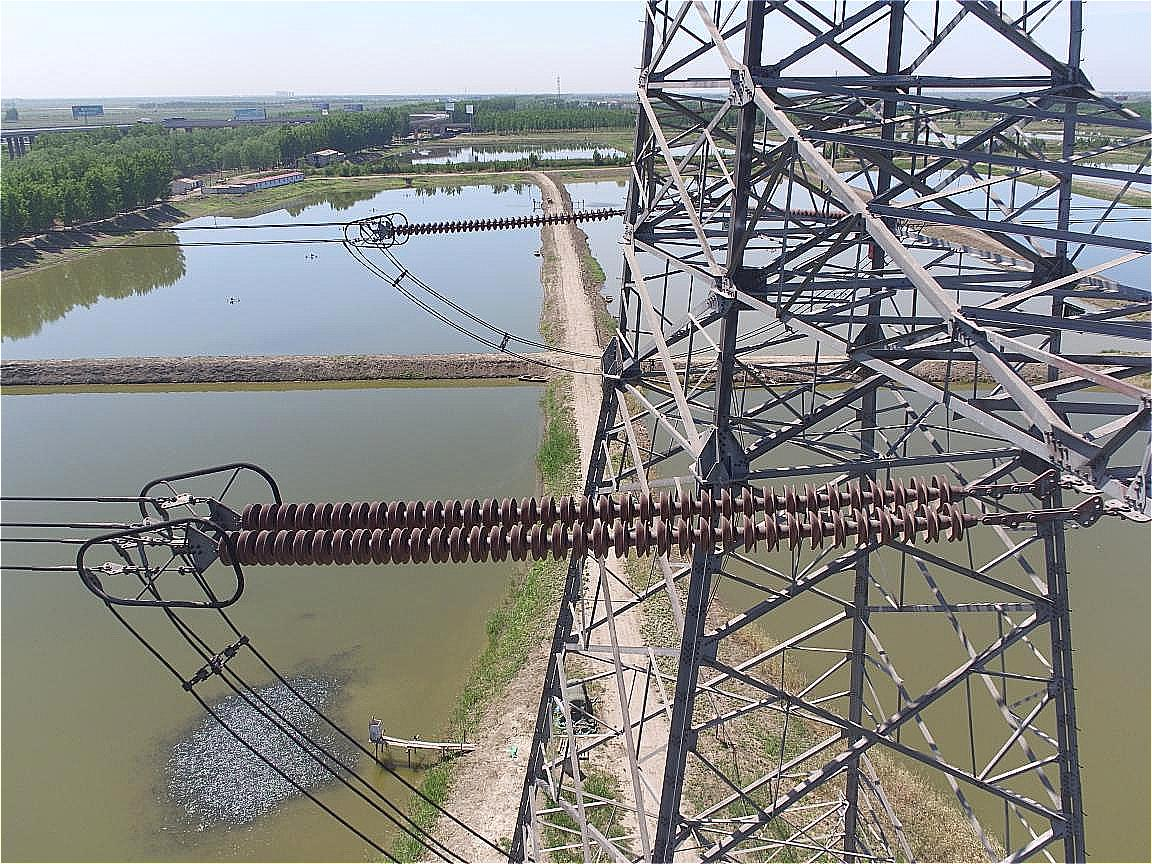insultor1: (392, 203, 630, 244)
insultor2: (188, 456, 989, 578)
